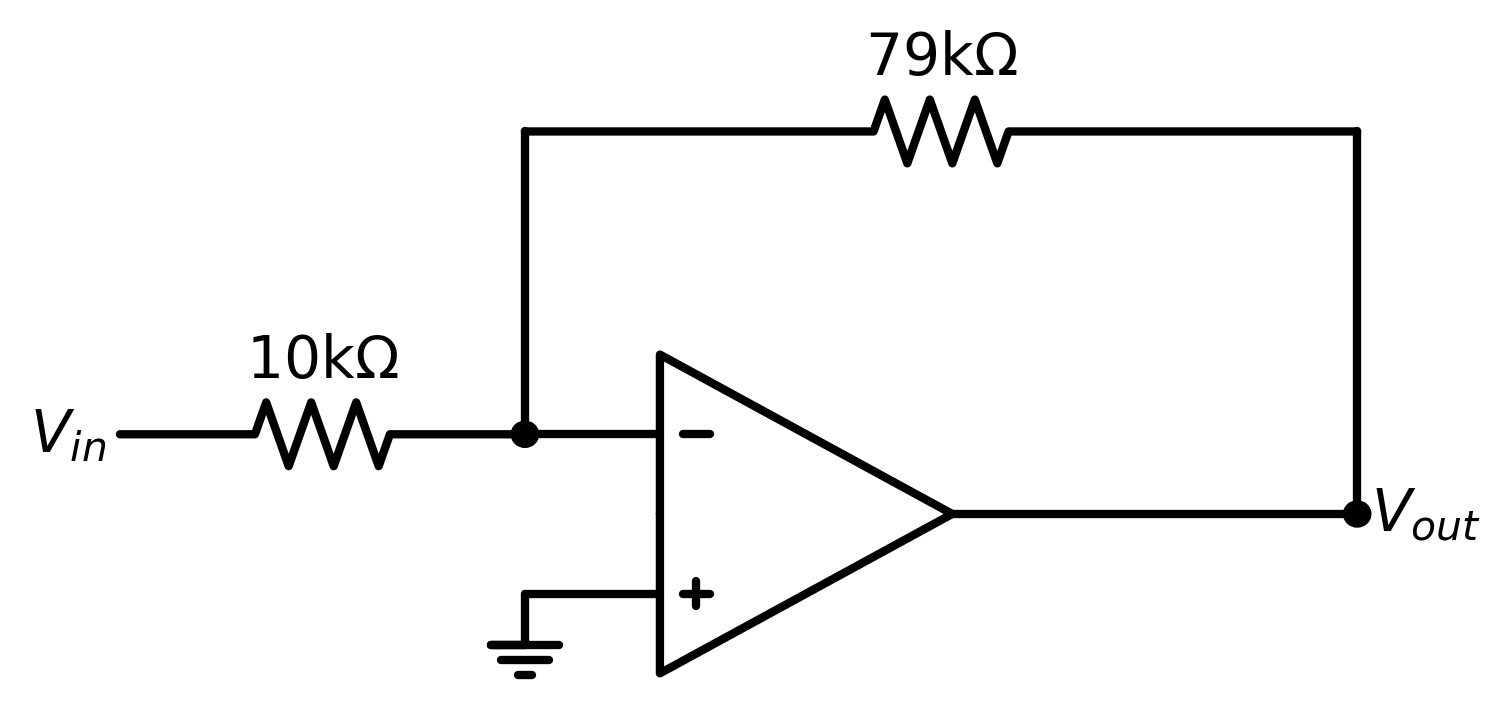ground: (475, 624, 572, 690)
opamp: (611, 341, 966, 684)
resistor: (244, 391, 403, 482), (866, 88, 1019, 182)
